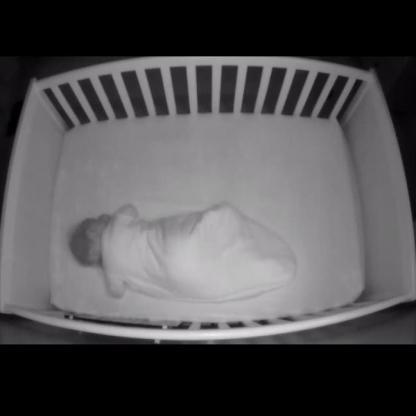baby: (70, 202, 295, 301)
